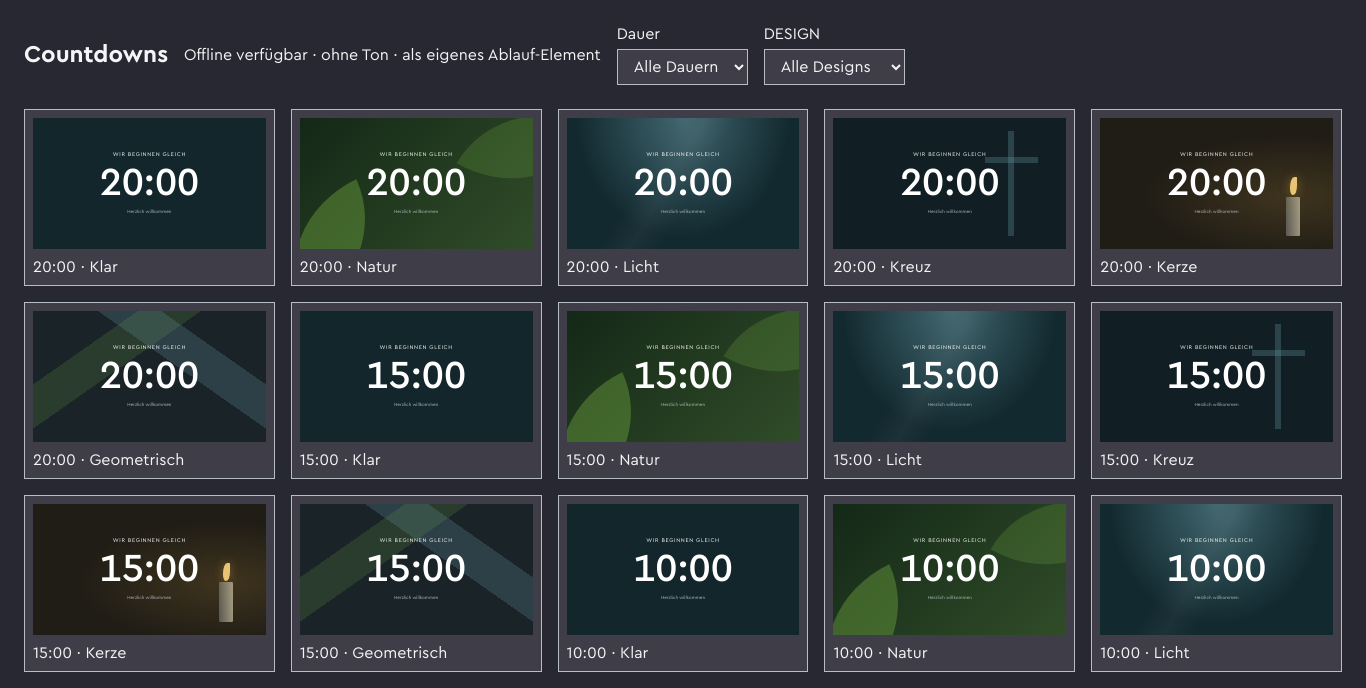
Scenario: filters by duration and design and hides presets in audio selection
Select "00:10" in the dropdown labelled "Dauer". click: [682, 67]
box: [617,49,748,85]
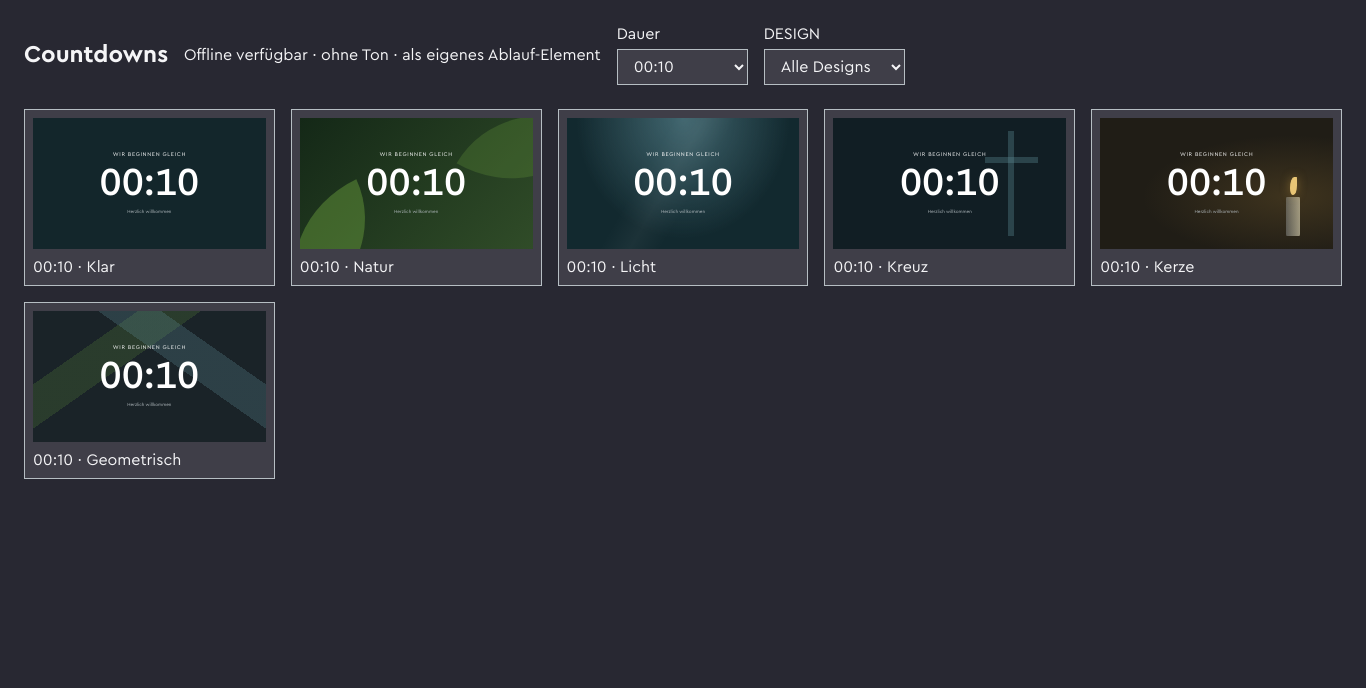
Select "Klar" in the dropdown labelled "DESIGN". click: [834, 67]
box: [764,49,905,85]
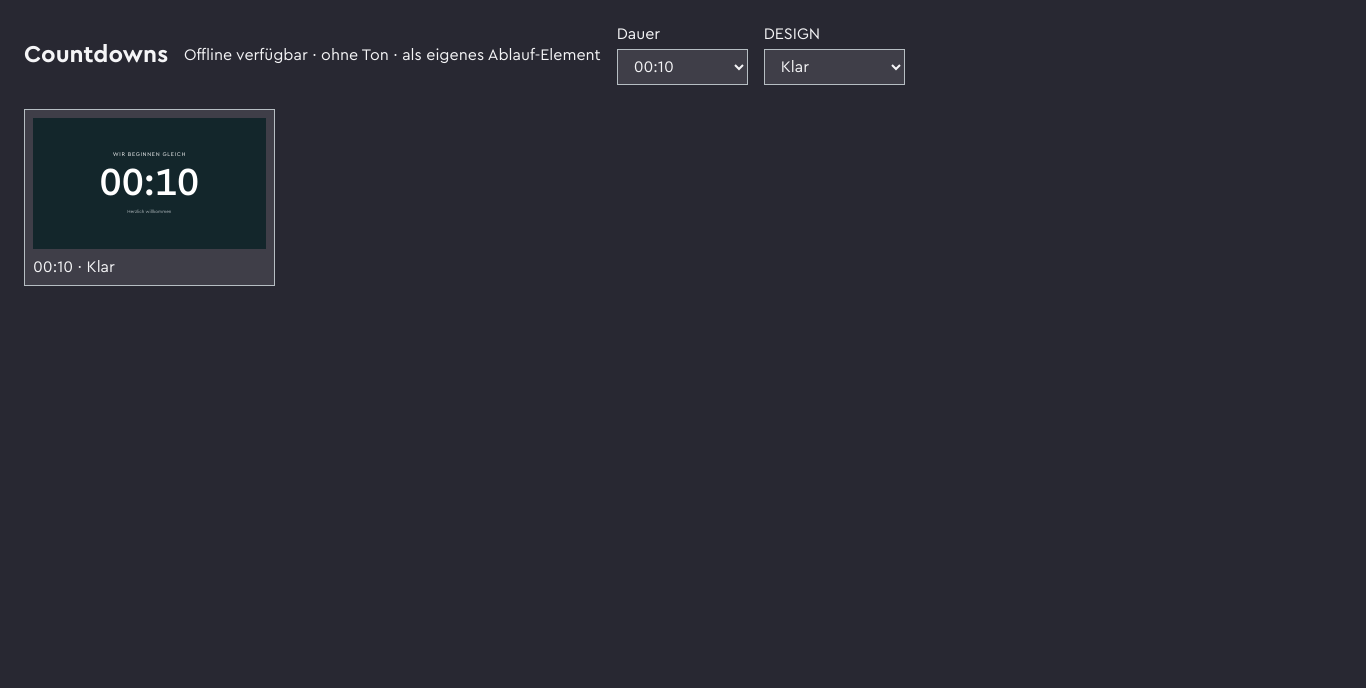
Check: the number of buttons named "Vorschau:" is 1, box [24,109,275,286]
